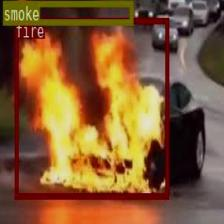fire: (14, 17, 168, 198)
smoke: (2, 0, 132, 24)
